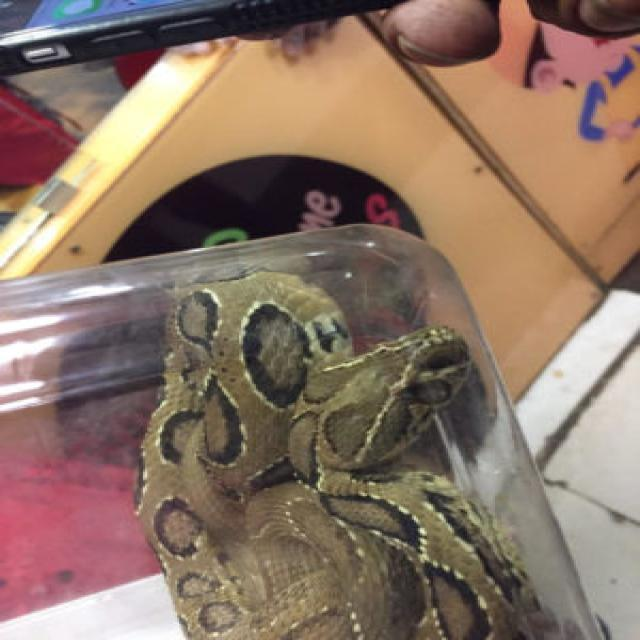Snake: (132, 261, 570, 640)
